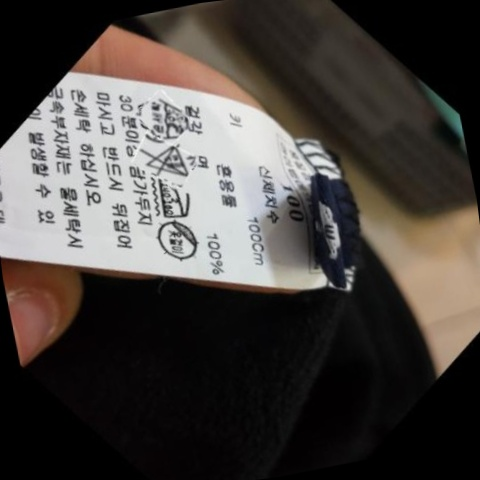hand_wash: (142, 90, 191, 143)
iron_medium: (155, 176, 198, 221)
line_dry_in_shade: (151, 212, 207, 268)
non_chlorine_bleach: (142, 141, 191, 183)
